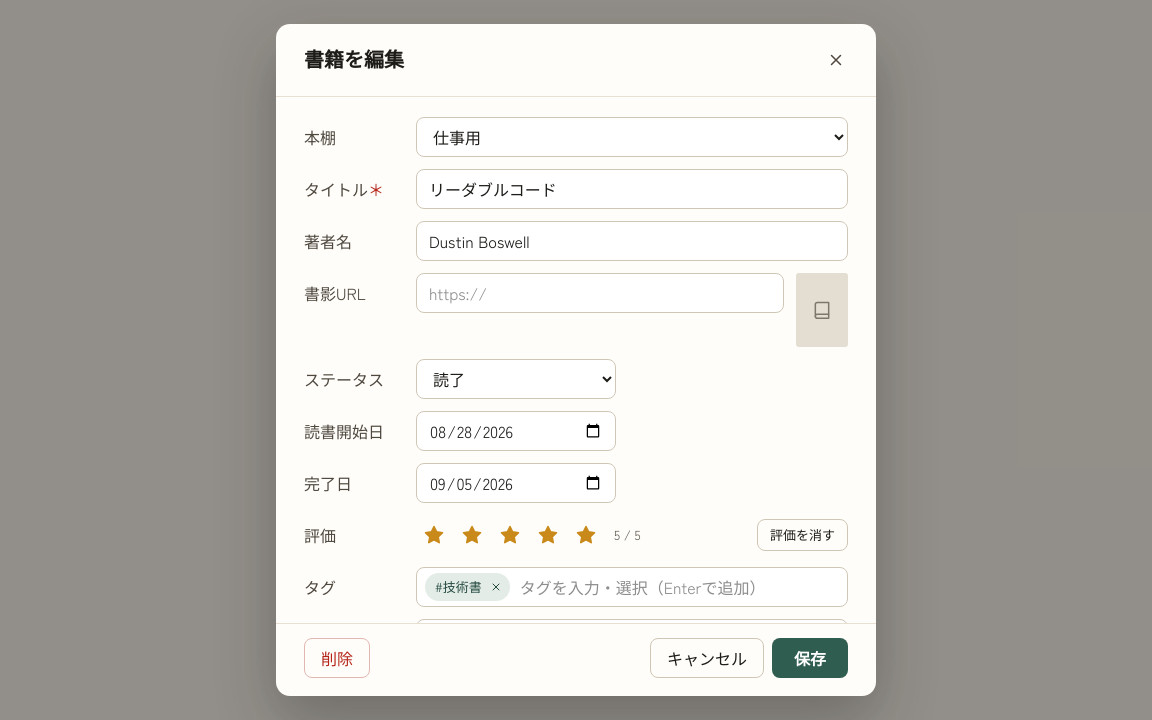
編集モード › 確認ダイアログの［キャンセル］では削除せず、モーダルに戻る
The image size is (1152, 720).
expect the field showing "リーダブルコード" is shown: met, box [416, 169, 848, 209]
Click the button "削除": click(337, 658) [304, 638, 370, 678]
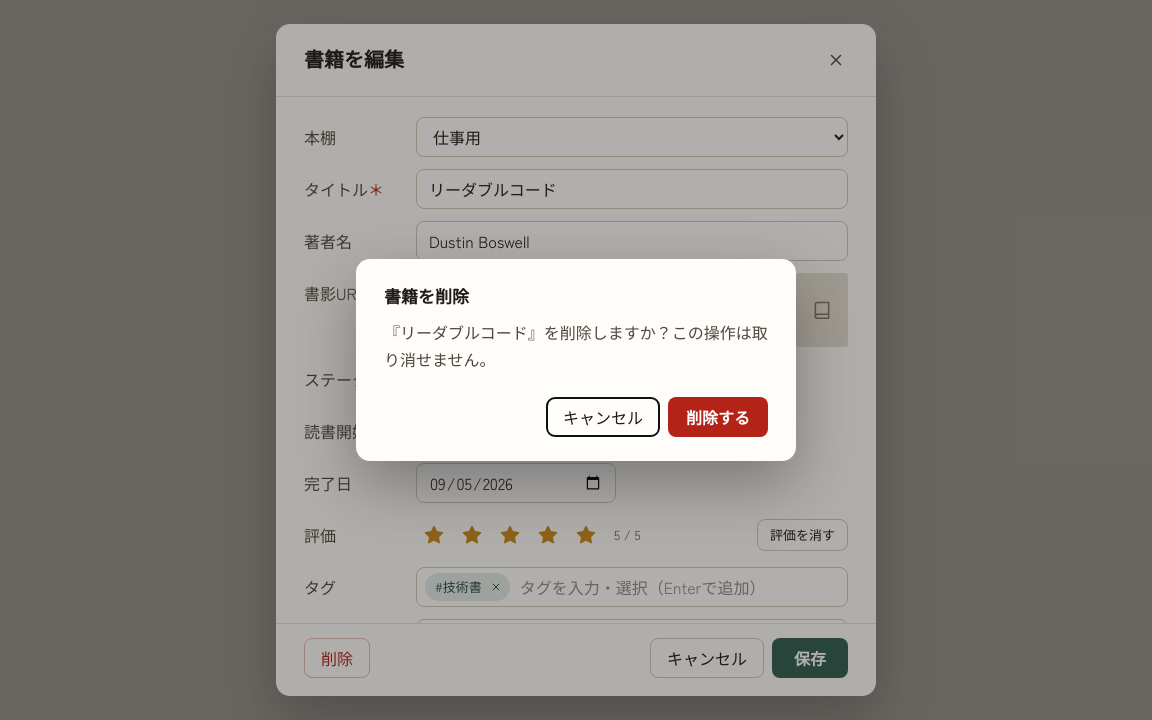
expect the button "キャンセル" is shown: met
Click the button "キャンセル": click(603, 417) [546, 397, 660, 437]
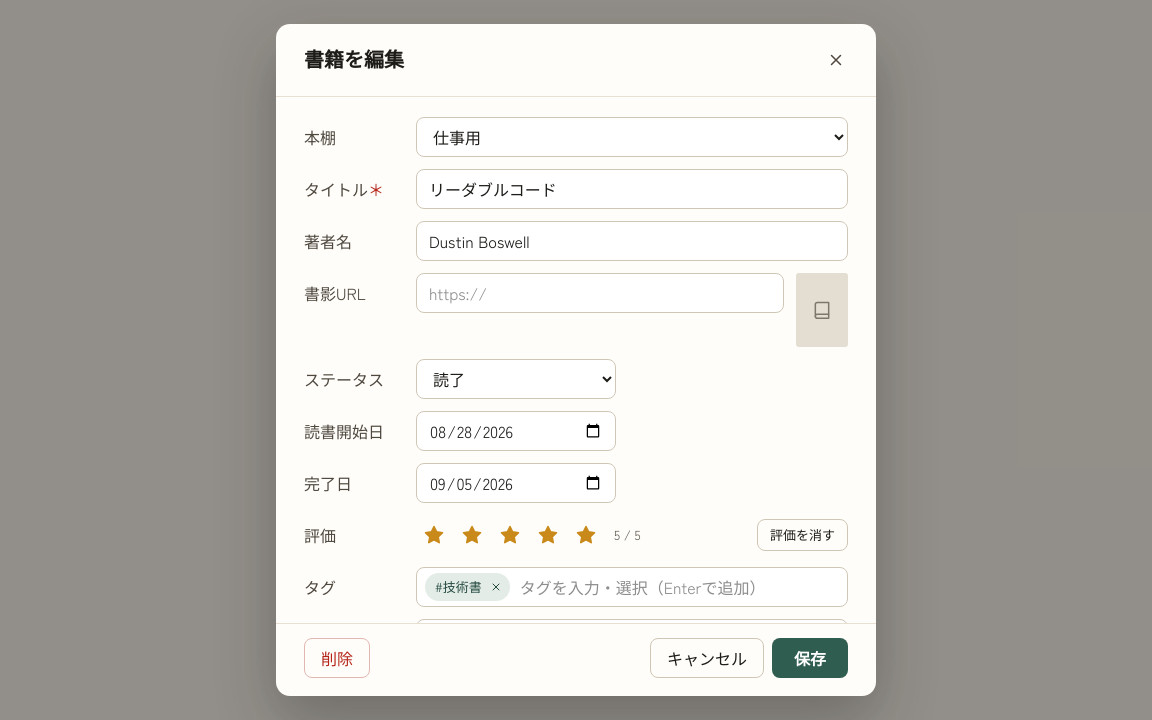
expect the dialog "書籍を削除 『リーダブルコード』を削除しますか？この操作は取り消せません。 キャンセル 削除する" is gone: met
